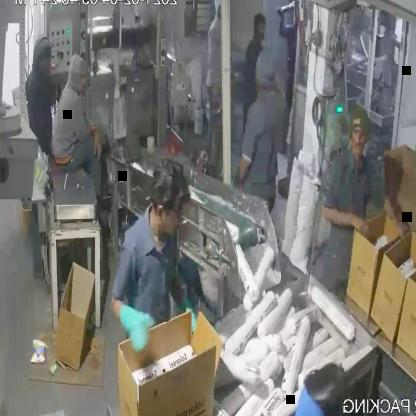glove: (99, 288, 152, 358)
no_glove: (313, 200, 375, 240), (373, 187, 409, 240), (82, 122, 104, 177)
